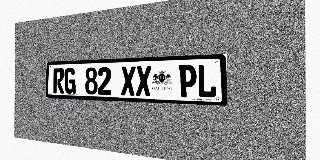2: (98, 67, 111, 95)
8: (85, 67, 98, 94)
G: (64, 68, 76, 94)
L: (197, 64, 216, 98)
P: (179, 64, 197, 97)
R: (53, 68, 64, 93)
X: (136, 66, 151, 96), (121, 66, 135, 96)
